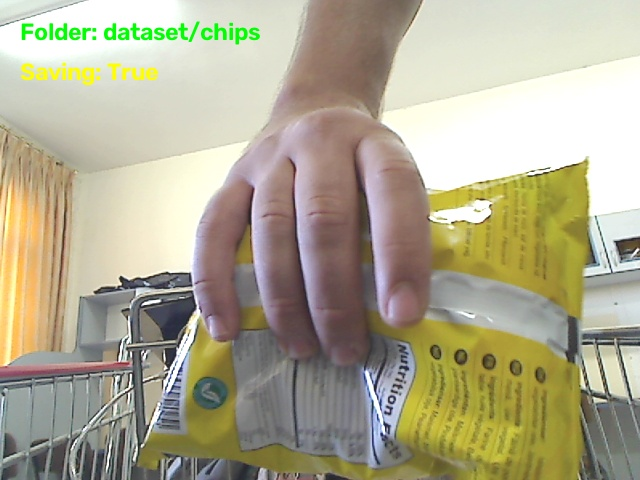chips: (140, 161, 587, 479)
